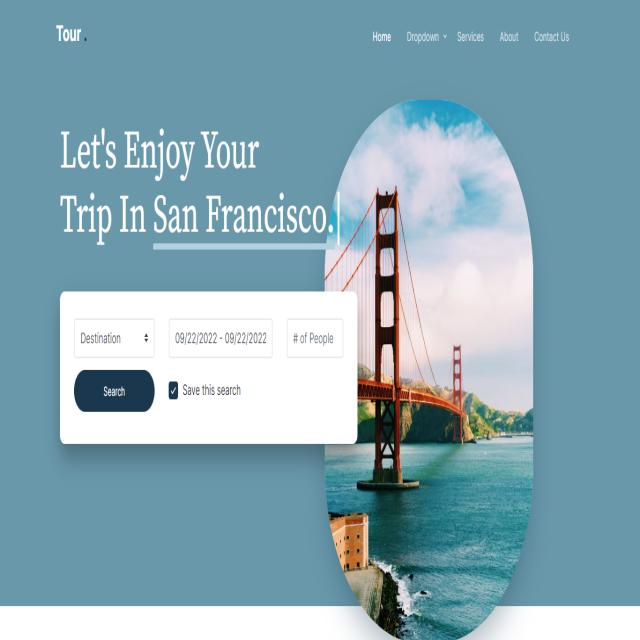Image: (368, 124, 524, 585)
buttons: (76, 375, 152, 408), (406, 27, 450, 51), (536, 28, 571, 46), (459, 25, 485, 48), (370, 25, 393, 46), (498, 26, 521, 47)
checkbox: (166, 378, 243, 408)
input-fields: (171, 324, 267, 352), (75, 321, 152, 353), (290, 322, 342, 355)
text: (60, 123, 341, 253), (56, 20, 86, 48)
